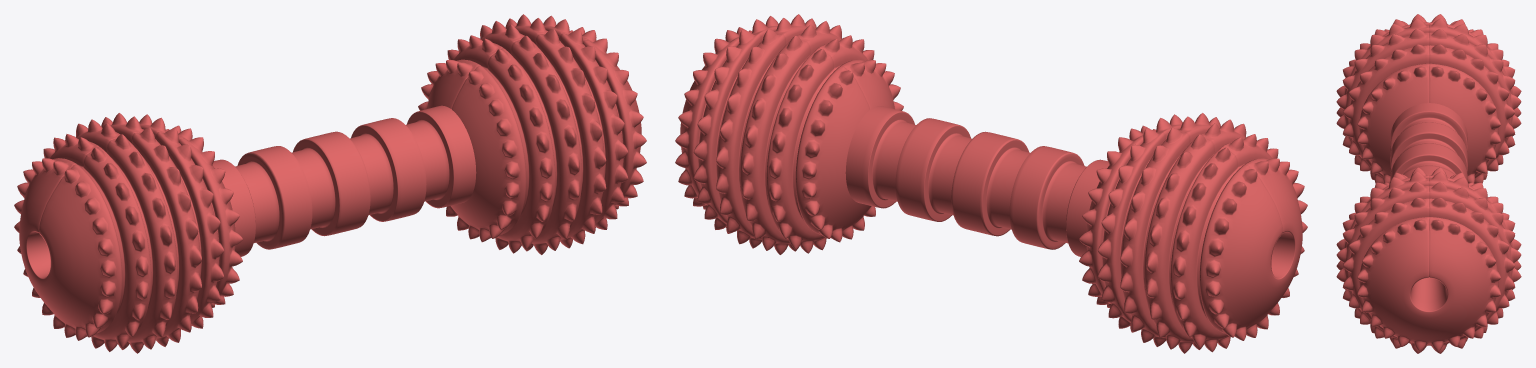
File: BarBell.fbx
3 views of the same model, side by side, from view 1: azimuth 30°, elevation 25°; view 2: azimuth 150°, elevation 25°; view 3: azimuth 270°, elevation 25° (orthographic). The views are drawn at different scales.
Parts seen in each view (by area): view 1: BarBell; view 2: BarBell; view 3: BarBell.
Part boxes in pixels (left/top/right/bottom): BarBell: left=14, top=14, right=646, bottom=353; BarBell: left=675, top=14, right=1307, bottom=353; BarBell: left=1336, top=14, right=1521, bottom=353.
Size of the model in its own units: 32.03 by 11.31 by 11.31.
